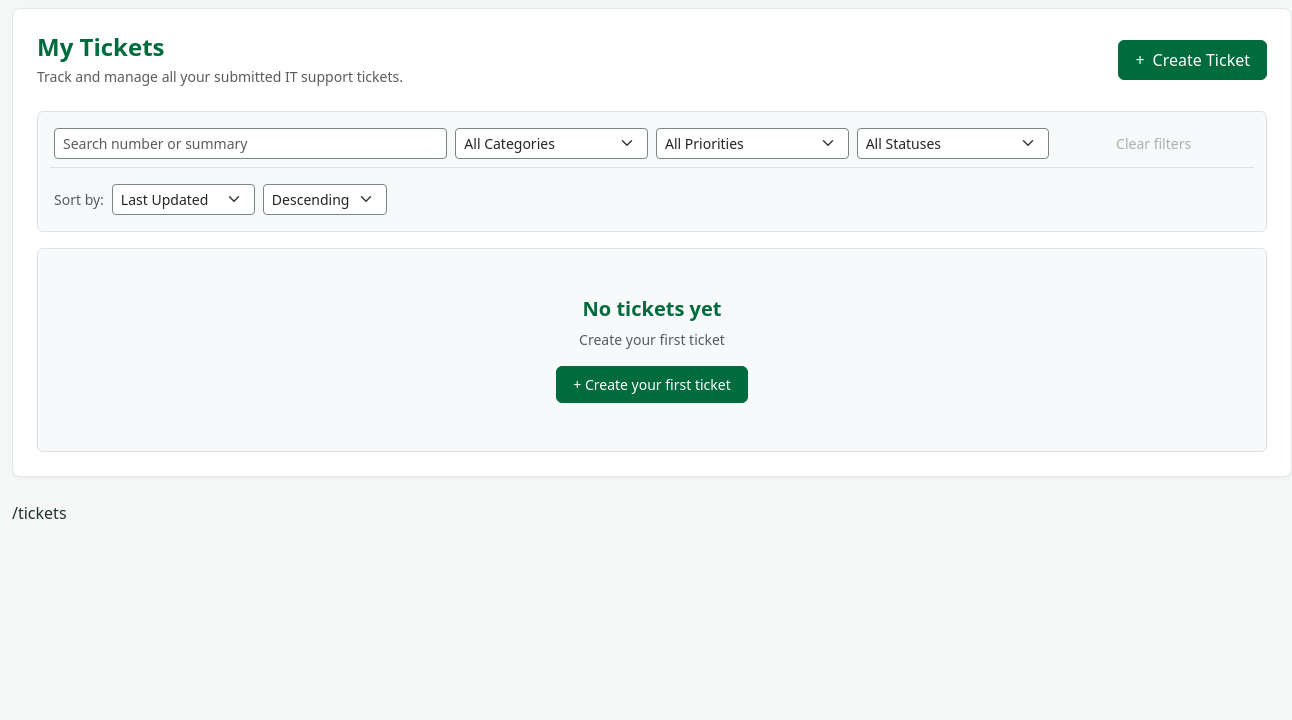
Test: MyTickets Component (C-07..C-12, FR-08, BR-19..BR-21, BR-24) › C-11: distinguishes empty tickets state from no-results search state (BR-24)
The image size is (1292, 720).
Check: the element with test id "empty-tickets-state" is shown, box [37, 248, 1267, 452]
Check: the text "No tickets yet" is shown, box [583, 295, 721, 322]
Select "Creation Date" in the dropdown labelled "Sort by:": {"x": 183, "y": 199} [112, 184, 255, 215]
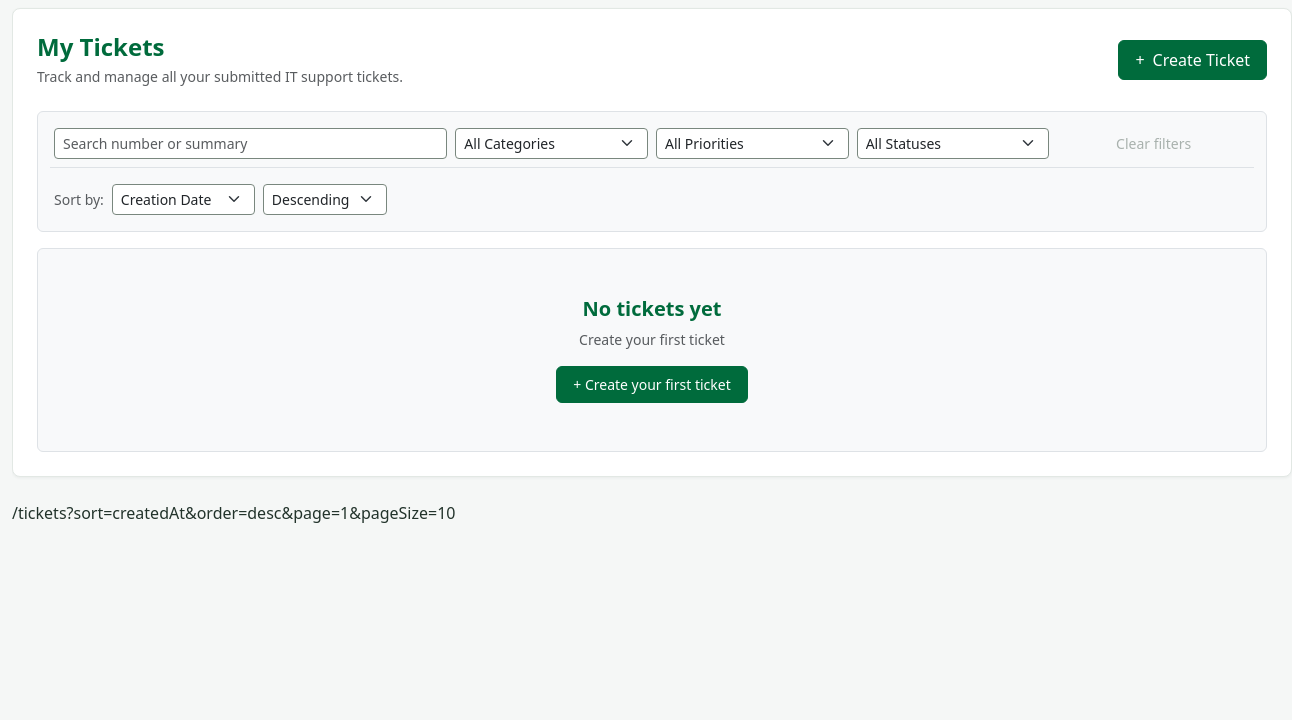
Check: the element with test id "empty-tickets-state" is shown, box [37, 248, 1267, 452]
Type search to trigger no-results state
In the field with placeholder "Search number or summary": {"x": 251, "y": 143} [54, 128, 447, 159], type "nonexistent"
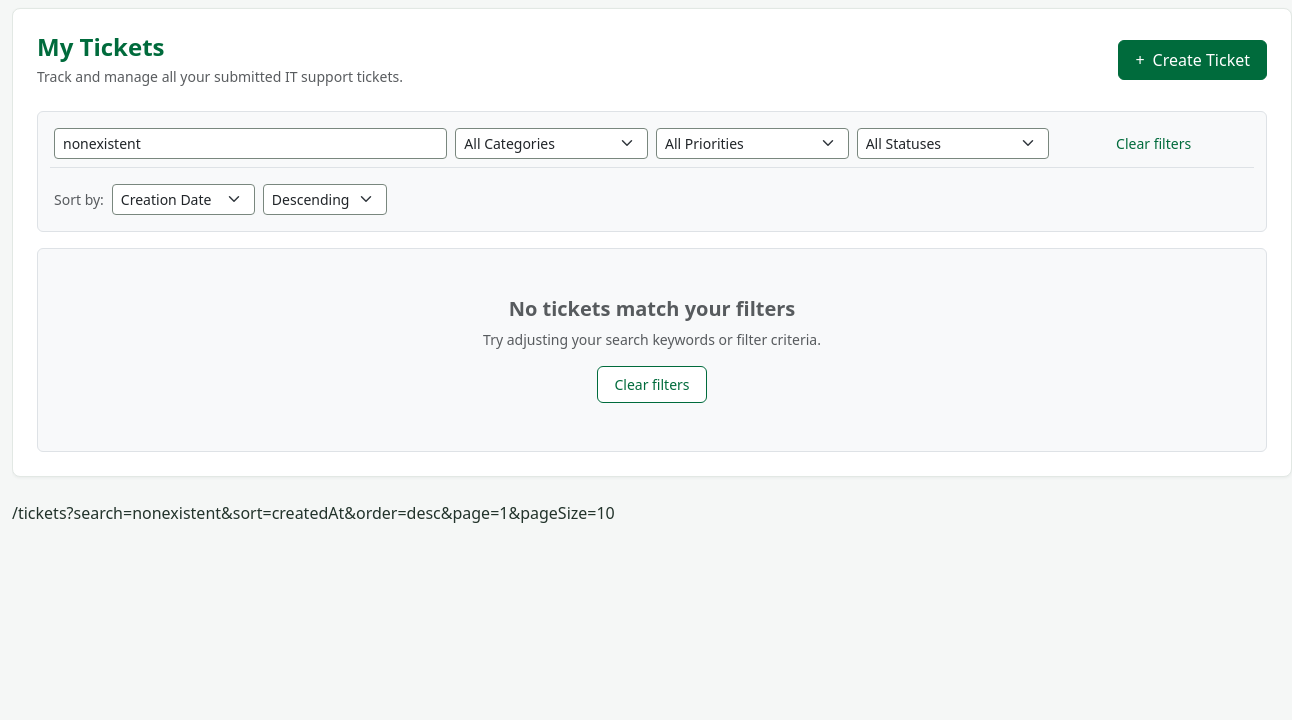
Check: the element with test id "no-results-state" is shown, box [37, 248, 1267, 452]
Check: the text "No tickets match your filters" is shown, box [509, 295, 795, 322]
